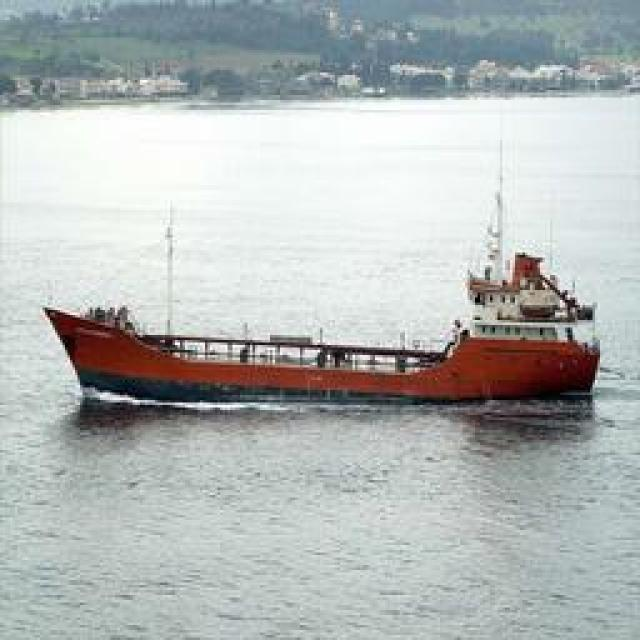ship2: (44, 112, 602, 409)
